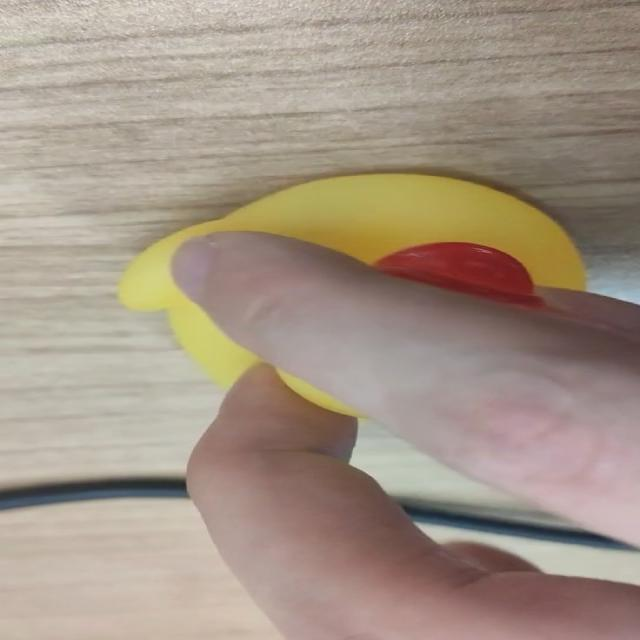rubber-duck: (117, 173, 584, 384), (282, 372, 357, 413)
